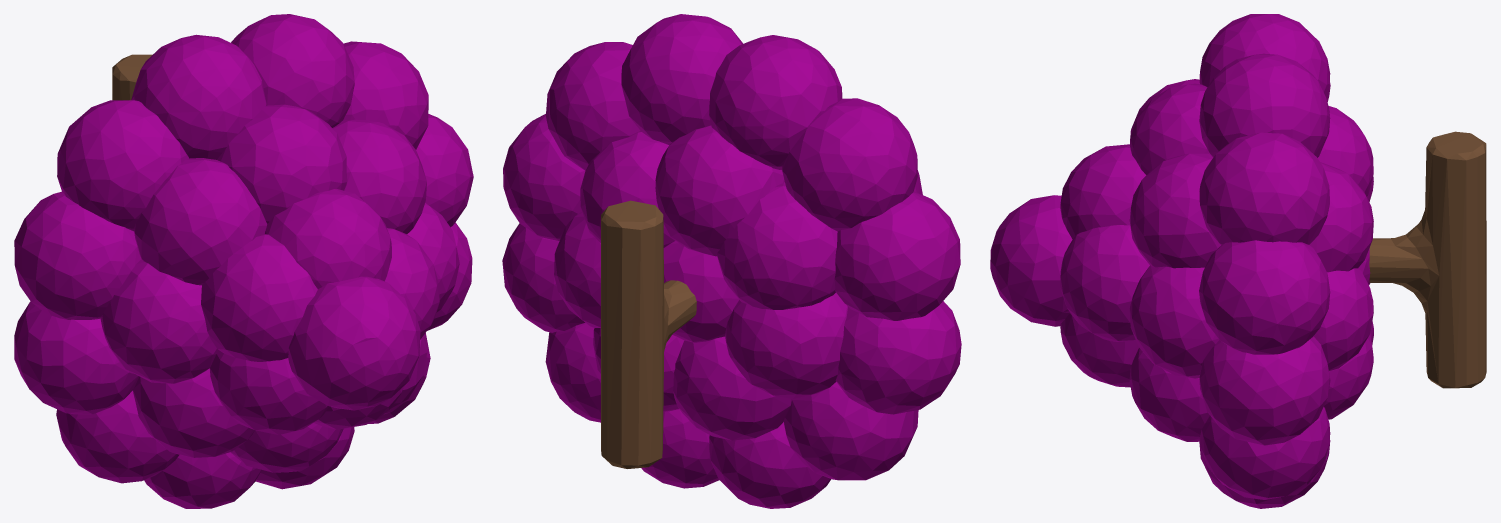
3 views of the same model, side by side, from view 1: azimuth 30°, elevation 25°; view 2: azimuth 150°, elevation 25°; view 3: azimuth 270°, elevation 25° (orthographic). The views are drawn at different scales.
Visible parts, largest first — view 1: 組合件1 - 滾珠-1; view 2: 組合件1 - 滾珠-1; view 3: 組合件1 - 滾珠-1.
Part boxes in pixels (bbox=[...]): 組合件1 - 滾珠-1: bbox=[14, 14, 473, 508]; 組合件1 - 滾珠-1: bbox=[502, 14, 961, 508]; 組合件1 - 滾珠-1: bbox=[990, 14, 1486, 508].
Size of the model in its own units: 5606 by 5612 by 5693.
